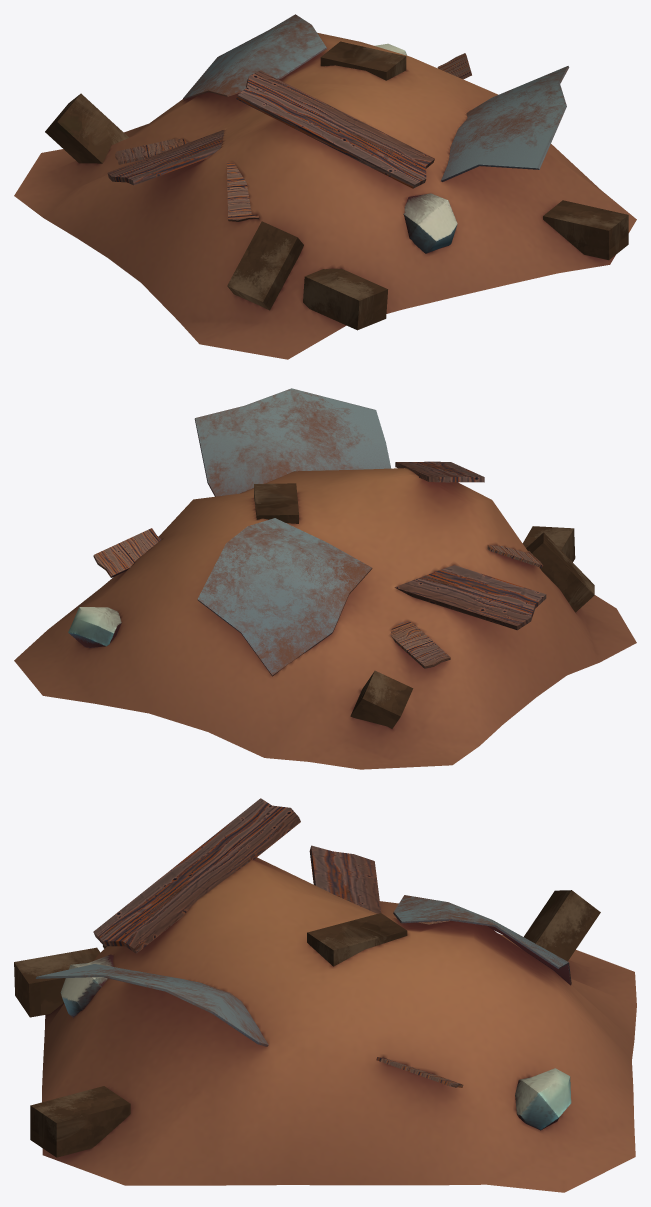
The model's file is Pile1.glb.
3 views of the same model, one above another, from view 1: azimuth 30°, elevation 25°; view 2: azimuth 150°, elevation 25°; view 3: azimuth 270°, elevation 25° (orthographic). The views are drawn at different scales.
Visible parts, largest first — view 1: Pile1; view 2: Pile1; view 3: Pile1.
Boxes of the visible parts, <box> form: Pile1: <box>14,14,636,359</box>; Pile1: <box>14,388,636,769</box>; Pile1: <box>14,798,636,1192</box>.
Bounding box in the file's own units: 0.1858 × 0.0775 × 0.1955.
1 material, 1 textured.
